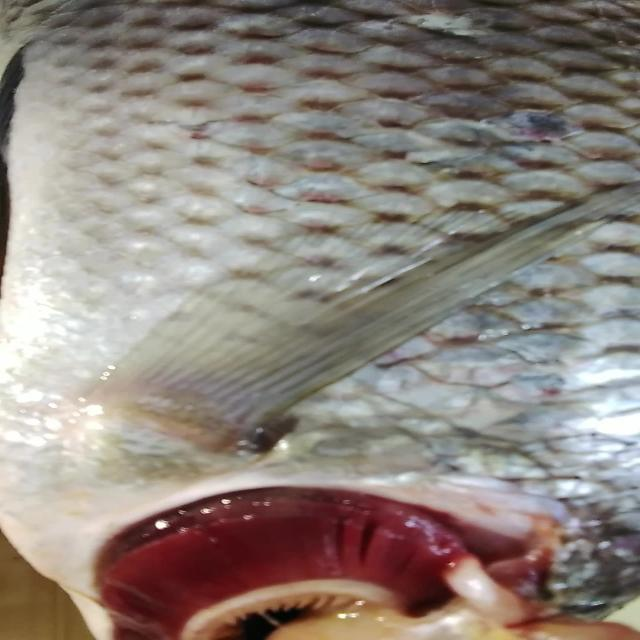Fresh: (65, 481, 495, 636)
